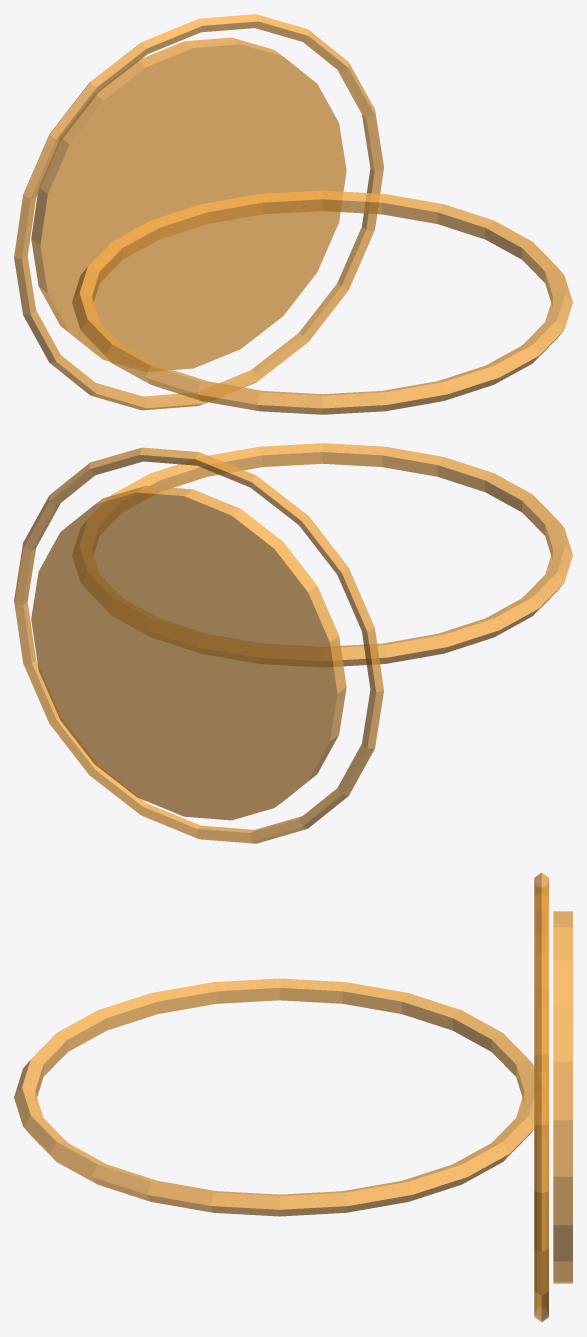
The model's file is 11_heat_shimmer_pillar.glb.
3 views of the same model, one above another, from view 1: azimuth 30°, elevation 25°; view 2: azimuth 150°, elevation 25°; view 3: azimuth 270°, elevation 25° (orthographic). The views are drawn at different scales.
Visible parts, largest first — view 1: base_disc, outline_ring, base_ring; view 2: base_disc, outline_ring, base_ring; view 3: outline_ring, base_disc, base_ring.
Part boxes in pixels (bbox=[...]): base_disc: bbox=[31, 37, 346, 371]; outline_ring: bbox=[72, 190, 572, 414]; base_ring: bbox=[14, 14, 383, 410]; base_disc: bbox=[31, 485, 346, 820]; outline_ring: bbox=[72, 443, 572, 666]; base_ring: bbox=[14, 447, 383, 843]; outline_ring: bbox=[14, 978, 544, 1216]; base_disc: bbox=[553, 911, 572, 1283]; base_ring: bbox=[534, 872, 548, 1322].
Size of the model in its own units: 1.36 by 1.16 by 1.43.
